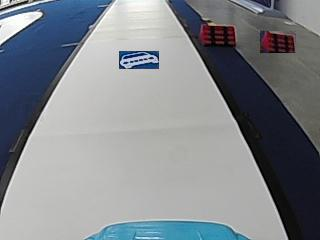bomb: (199, 23, 236, 44)
